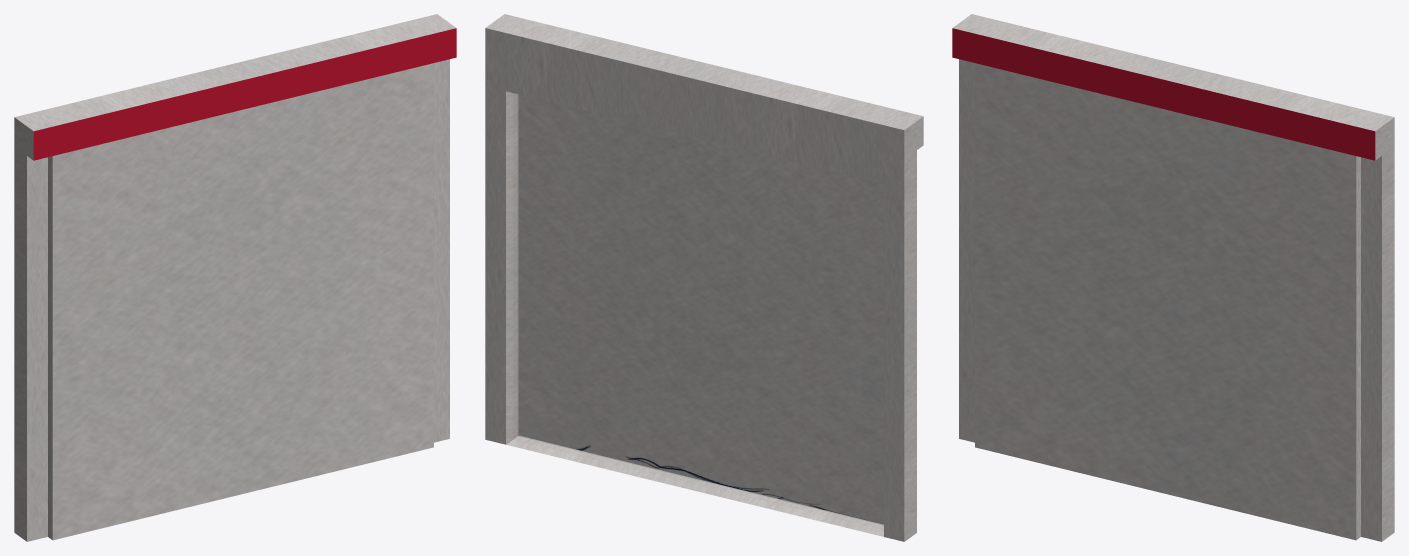
Rendered from wall_Entrance.fbx.
3 renders of one model, left to right at view 1: azimuth 30°, elevation 25°; view 2: azimuth 150°, elevation 25°; view 3: azimuth 330°, elevation 25°, orthographic.
Visible parts, largest first — view 1: door, door_R, wall_entrance; view 2: door_R, wall_entrance, door; view 3: door_R, door, wall_entrance.
Boxes of the visible parts, bbox=[...] form: door: bbox=[48, 109, 243, 540]; door_R: bbox=[243, 63, 433, 493]; wall_entrance: bbox=[14, 14, 456, 541]; door_R: bbox=[518, 94, 707, 481]; wall_entrance: bbox=[485, 14, 923, 541]; door: bbox=[707, 140, 883, 524]; door_R: bbox=[1165, 109, 1360, 540]; door: bbox=[975, 63, 1165, 493]; wall_entrance: bbox=[952, 14, 1394, 541].
Size of the model in its own units: 340 by 319 by 26.87.
